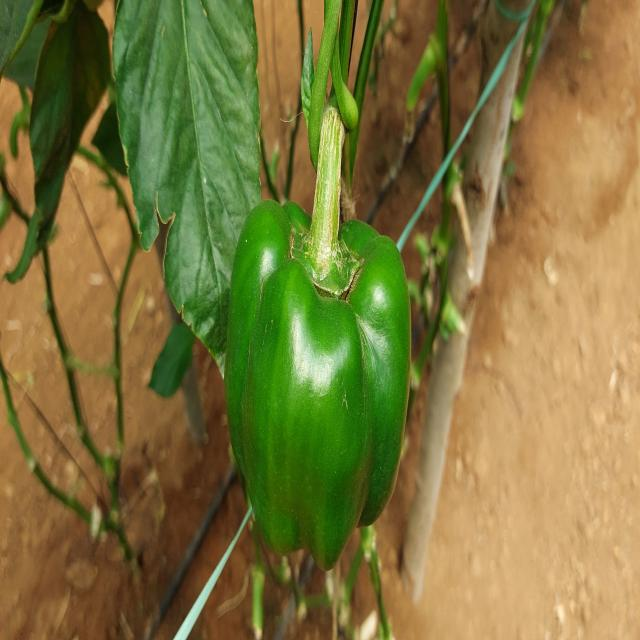Green--Not-ready-to-harvest: (222, 189, 416, 573)
